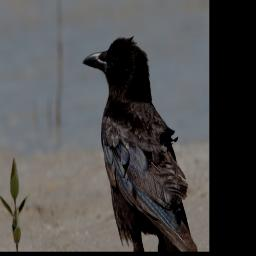Crow: (81, 35, 198, 252)
